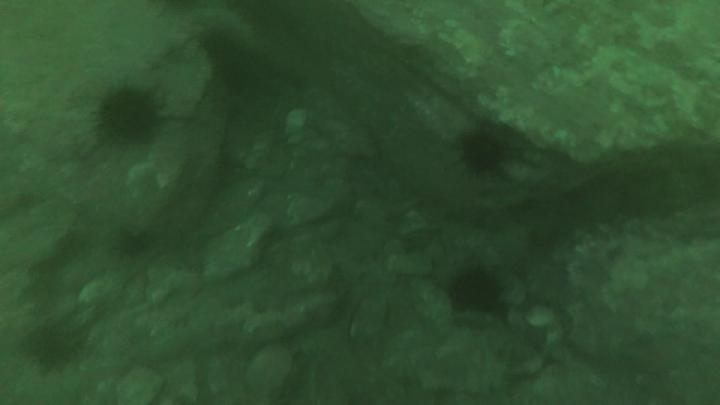echinus: (102, 94, 156, 140), (459, 131, 511, 177), (452, 271, 503, 313), (37, 335, 81, 373)
